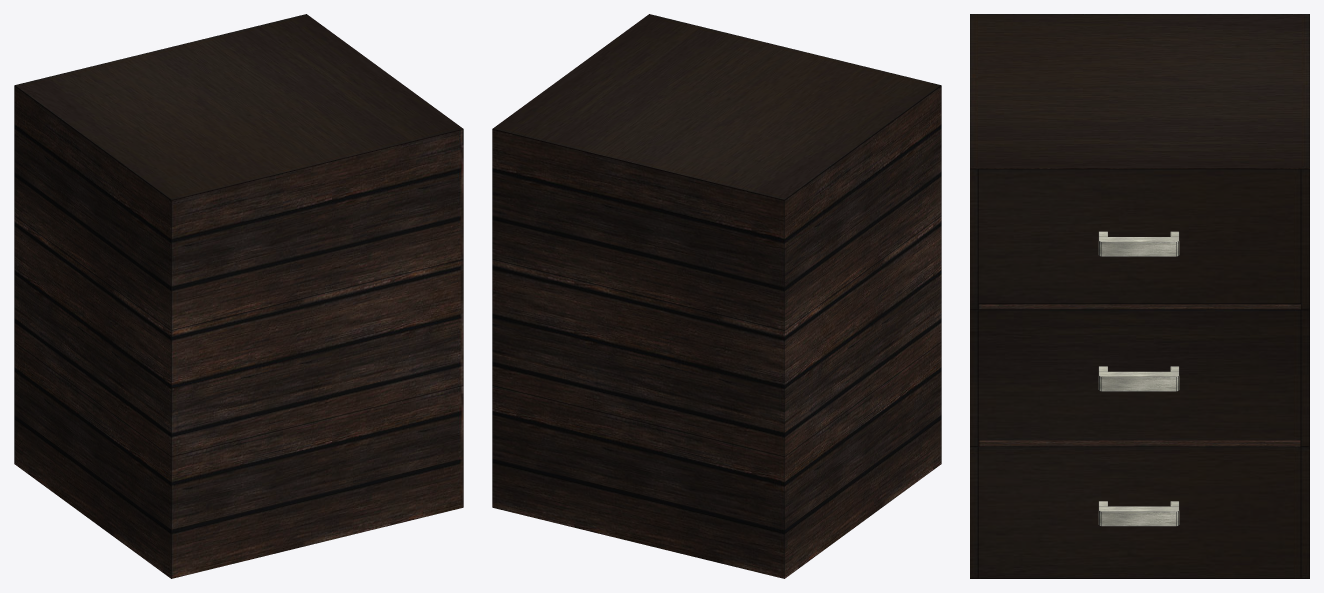
File: bedside_table2.obj
The picture shows the model from 3 angles, left to right: view 1: azimuth 30°, elevation 25°; view 2: azimuth 150°, elevation 25°; view 3: azimuth 270°, elevation 25°; orthographic projection. The views are drawn at different scales.
Parts seen in each view (by area): view 1: bedsidetable; view 2: bedsidetable; view 3: bedsidetable.
Part boxes in pixels (box(x1,y1,x2,y2)): bedsidetable: box(14, 14, 463, 578); bedsidetable: box(492, 14, 941, 578); bedsidetable: box(970, 14, 1309, 578).
Bounding box in the file's own units: 7.73 × 8.97 × 6.73.
Materials: 1 (1 with a texture image).
